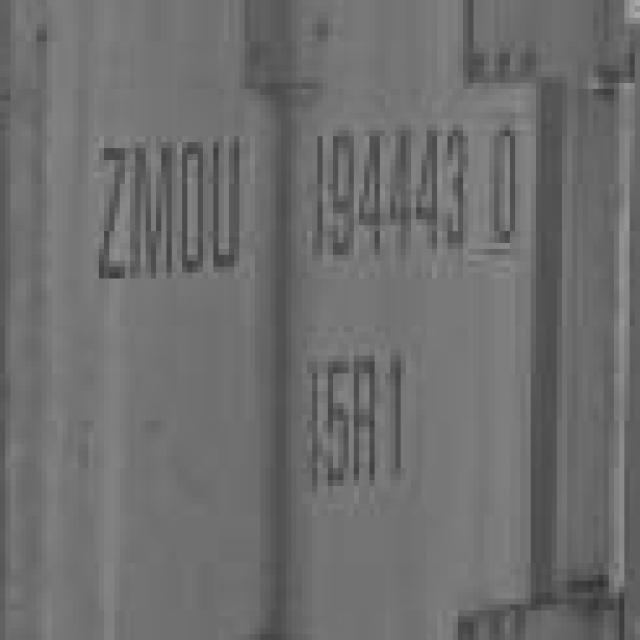dv: (485, 124, 545, 255)
owner: (88, 132, 259, 284)
serial: (297, 126, 472, 264)
size: (290, 348, 436, 497)
